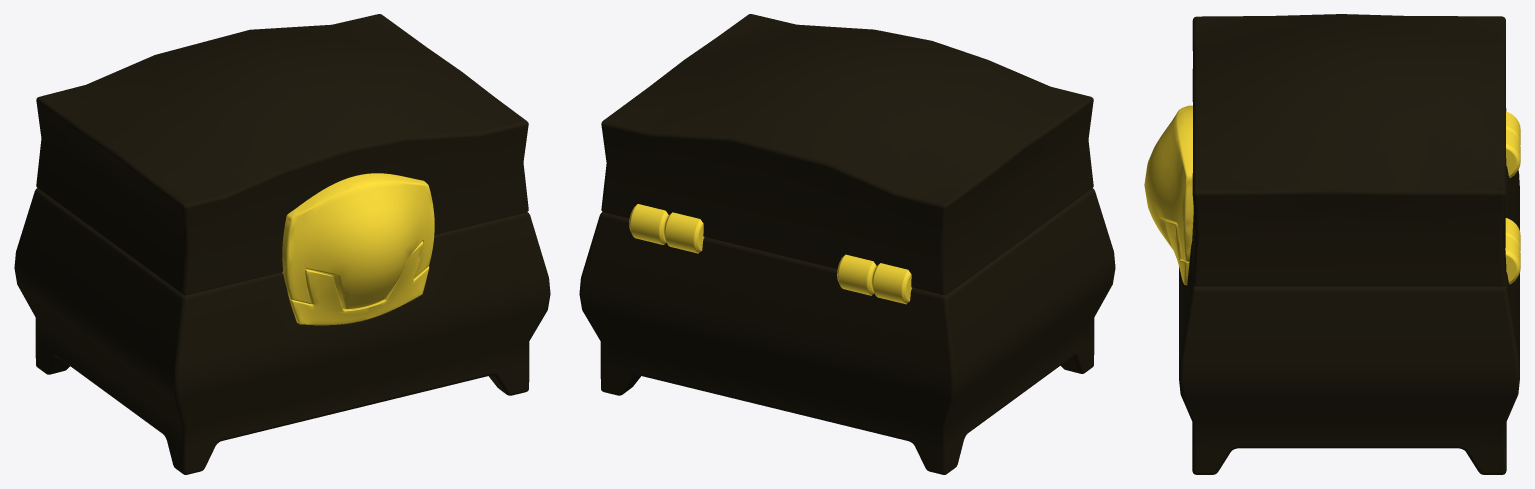
Rendered from chest-3.glb.
3 views of the same model, side by side, from view 1: azimuth 30°, elevation 25°; view 2: azimuth 150°, elevation 25°; view 3: azimuth 270°, elevation 25° (orthographic). The views are drawn at different scales.
Parts seen in each view (by area): view 1: lid.002, chest.002, lock top.002, lock bottom.002; view 2: lid.002, chest.002, hinges.002; view 3: lid.002, chest.002, lock top.002, hinges.002, lock bottom.002.
Boxes of the visible parts, x1=… form: lid.002: x1=36, y1=14, x2=528, y2=294; chest.002: x1=14, y1=188, x2=550, y2=474; lock top.002: x1=282, y1=173, x2=434, y2=309; lock bottom.002: x1=289, y1=241, x2=429, y2=325; lid.002: x1=601, y1=14, x2=1093, y2=294; chest.002: x1=579, y1=188, x2=1115, y2=474; hinges.002: x1=629, y1=204, x2=911, y2=304; lid.002: x1=1192, y1=14, x2=1506, y2=286; chest.002: x1=1179, y1=166, x2=1519, y2=474; lock top.002: x1=1144, y1=105, x2=1193, y2=261; hinges.002: x1=1505, y1=111, x2=1520, y2=284; lock bottom.002: x1=1165, y1=221, x2=1189, y2=285.
Size of the model in its own units: 1.17 by 0.9284 by 0.967.
